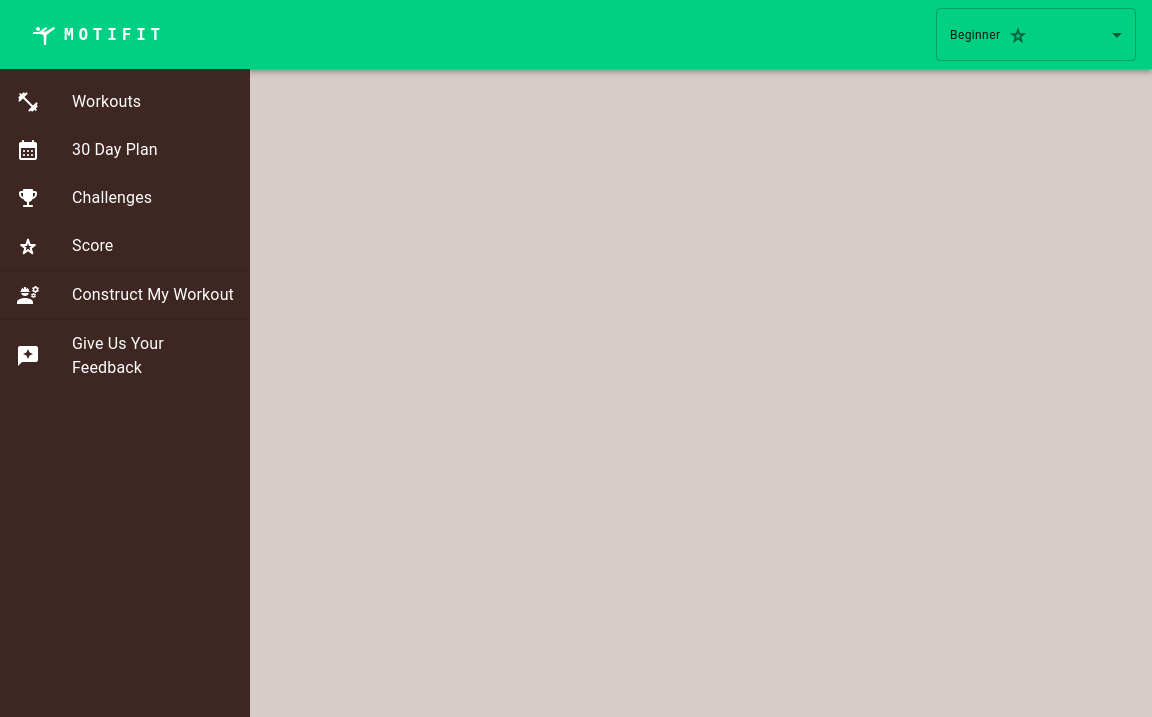
Test case: Motifit app › should show moves in Construct my workout page
Click the text "Construct My Workout": point(153, 295) [72, 283, 234, 307]
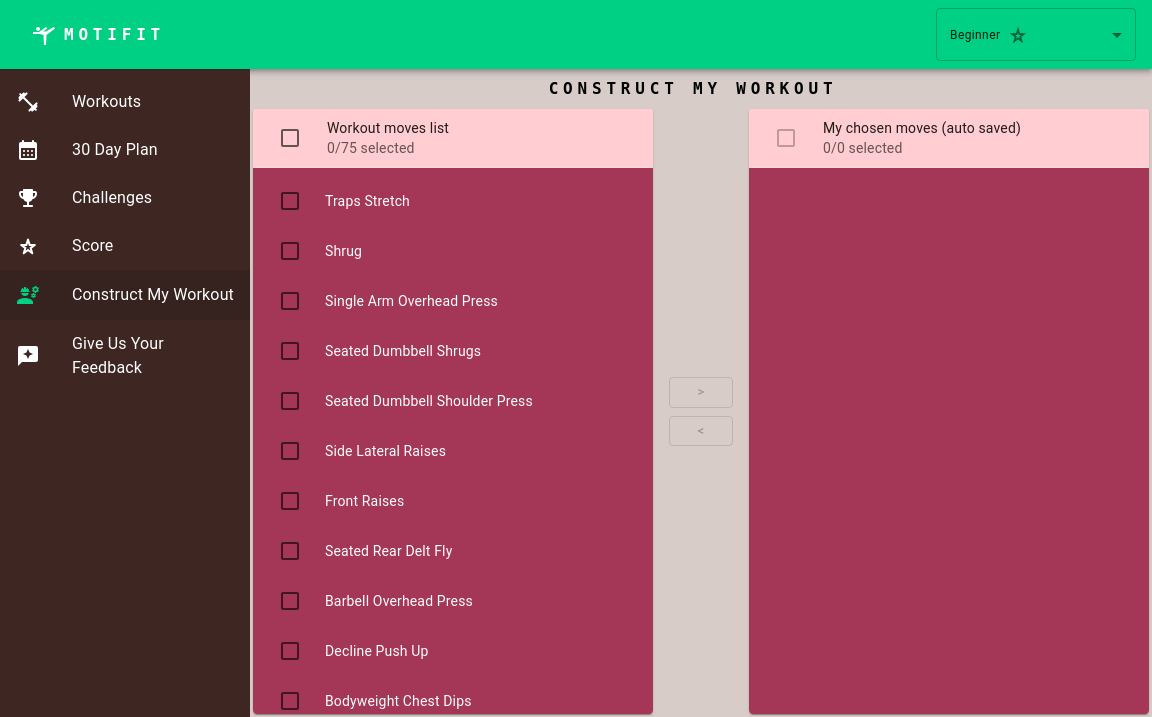
Check: the text "Traps Stretch" is shown, box [325, 193, 410, 209]
Check: the text "Shrug" is shown, box [325, 243, 362, 259]
Check: the text "Front Raises" is shown, box [325, 493, 404, 509]
